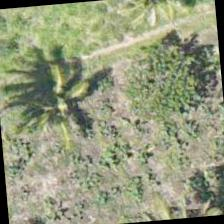Kelapa_Sawit: (10, 62, 108, 160)
